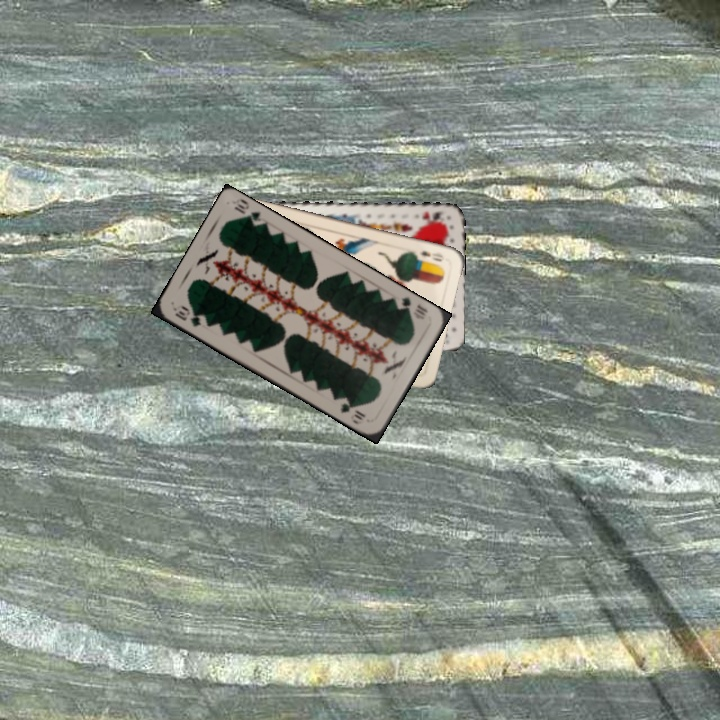EO: (415, 246, 447, 264)
G10: (396, 293, 431, 322), (171, 302, 204, 329)
HK: (418, 207, 445, 225)
